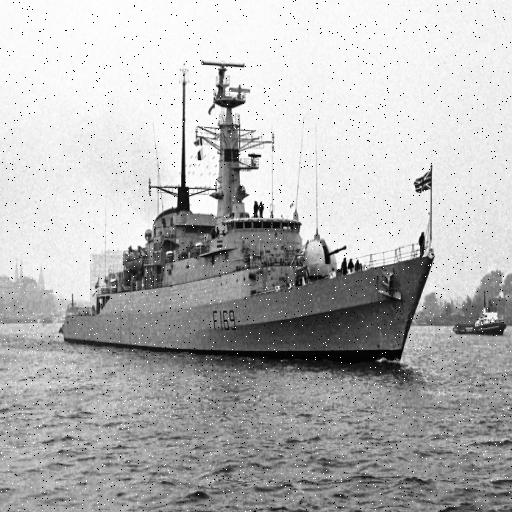Fragata: (58, 52, 439, 370)
